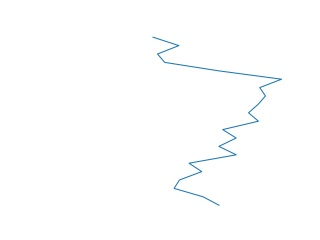floodPlain: (152, 35, 284, 207)
